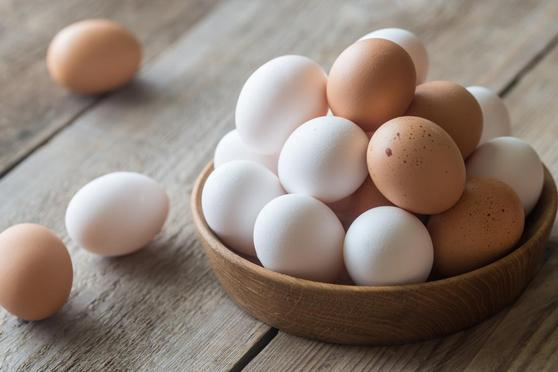egg: (371, 118, 469, 215), (236, 55, 326, 150), (323, 37, 420, 122), (250, 194, 345, 280), (280, 122, 375, 200), (345, 209, 436, 285)
